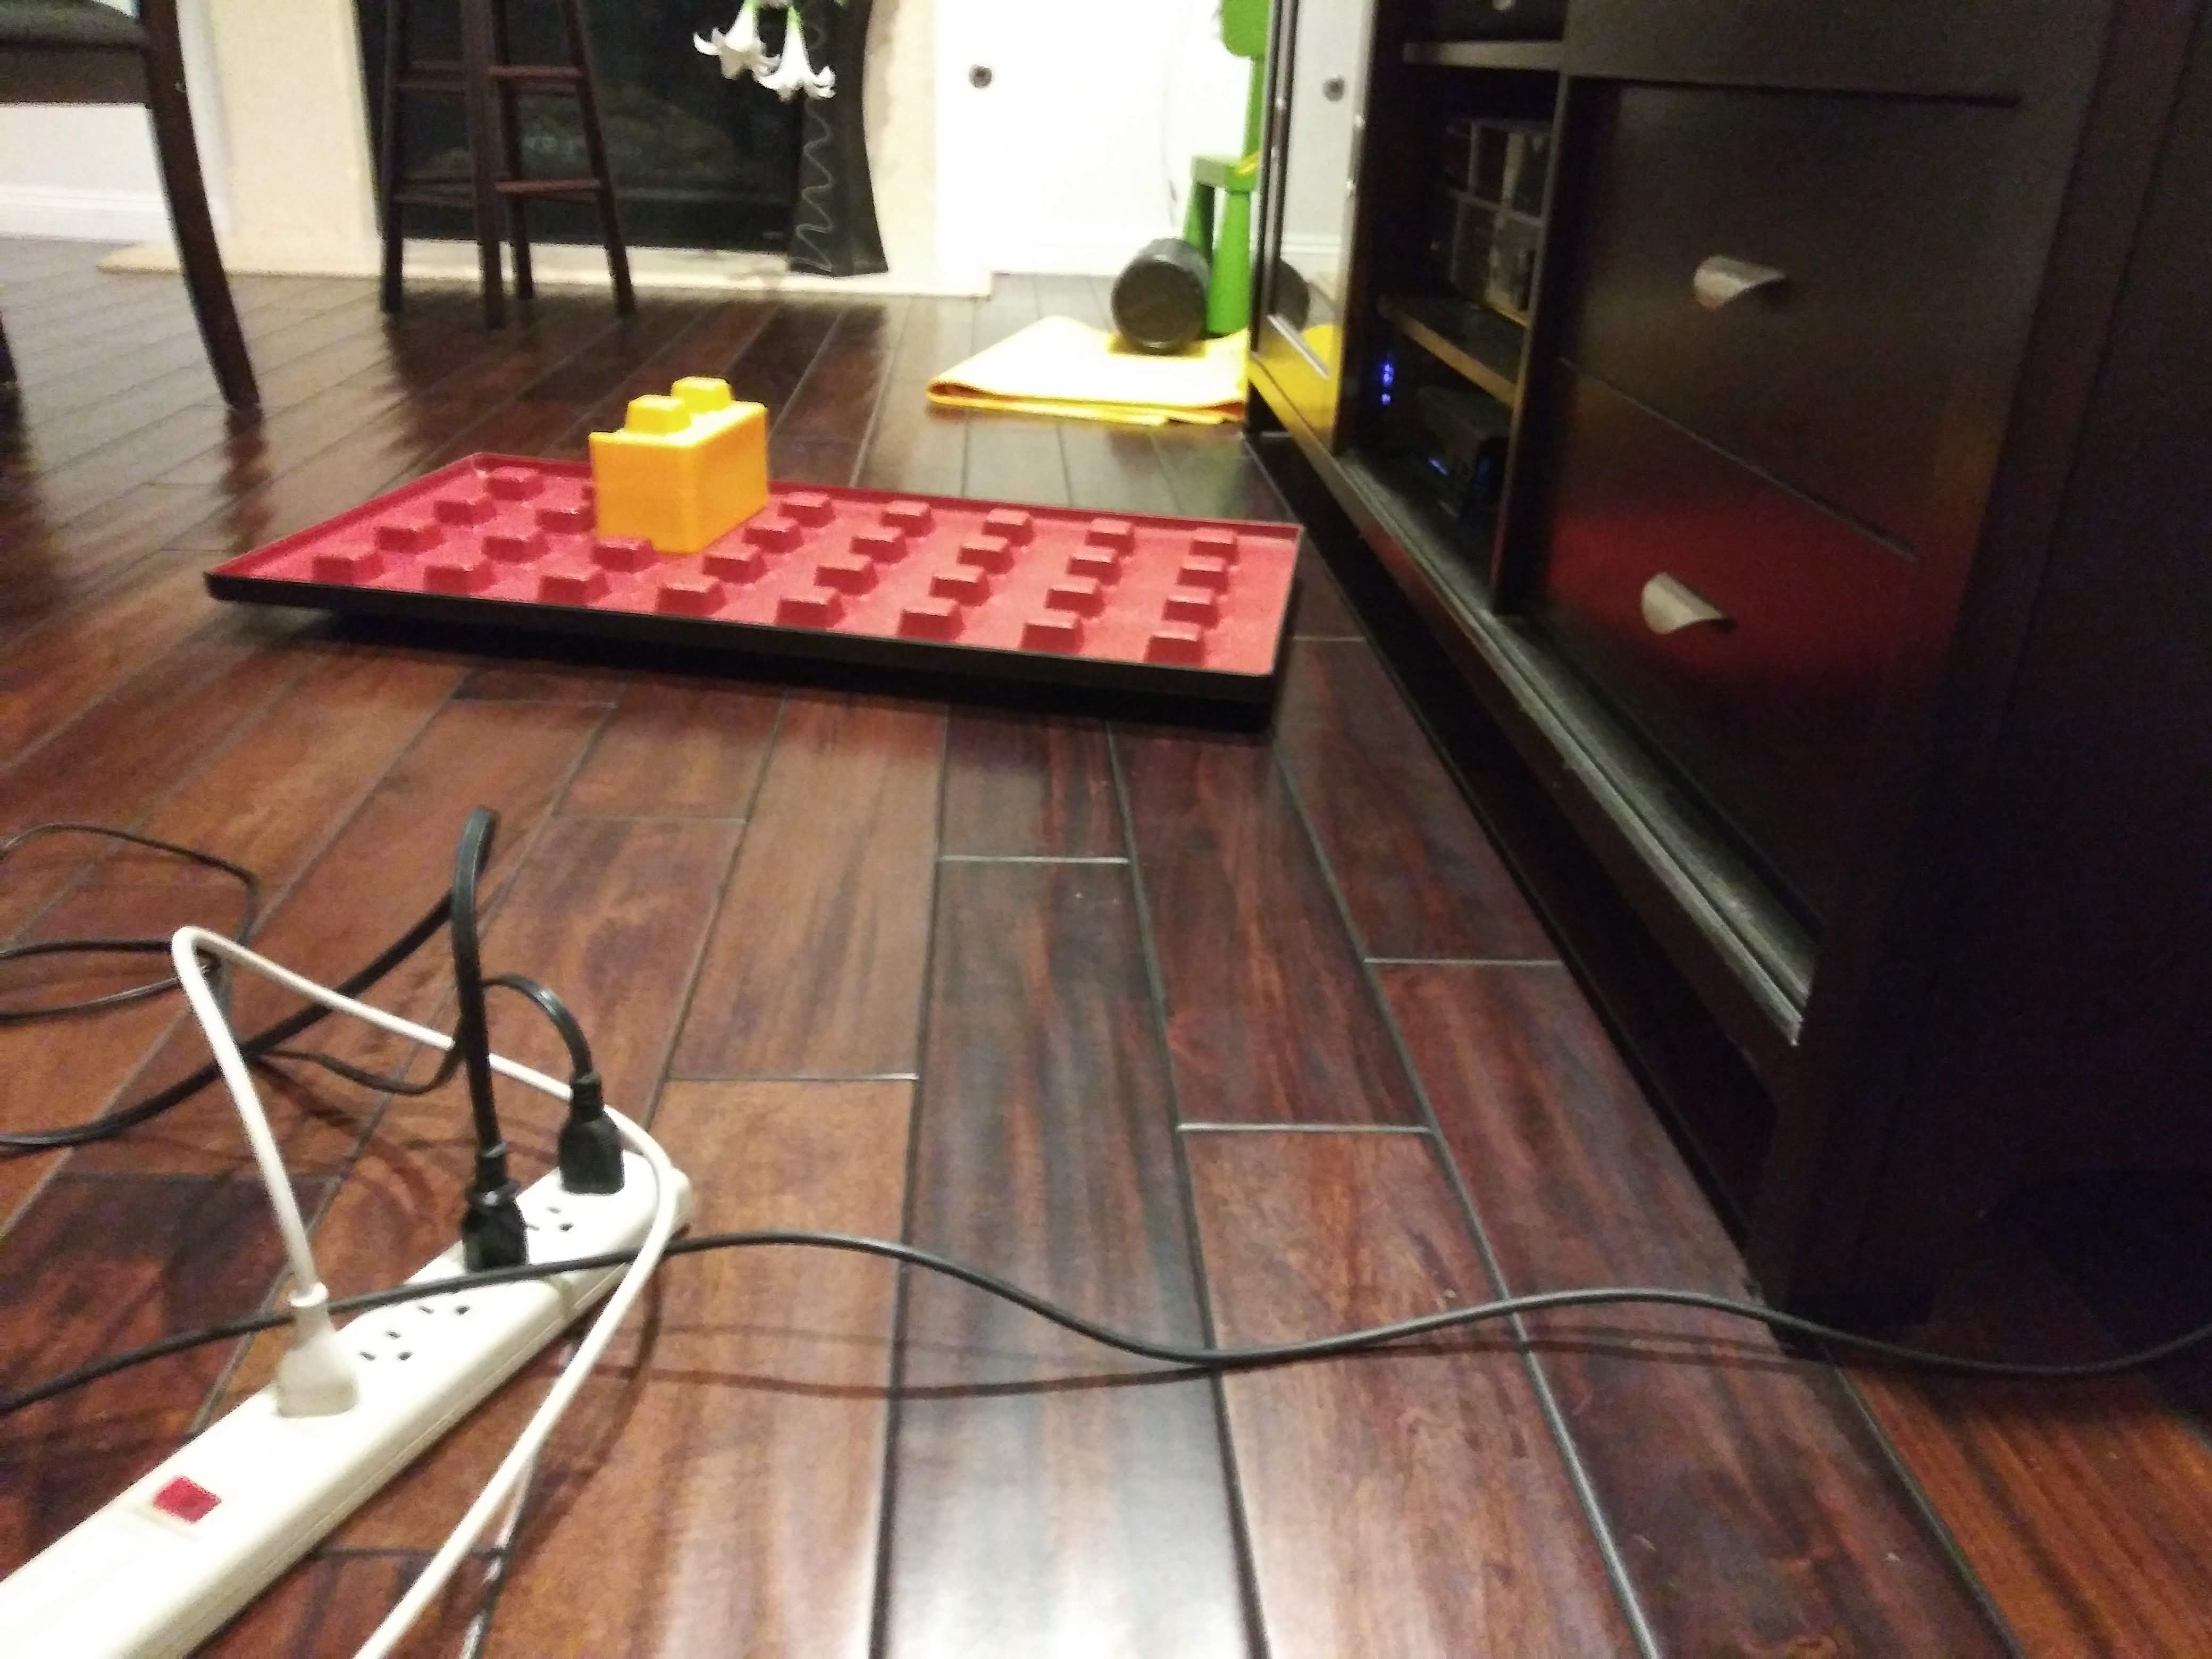red foundation: (193, 408, 1331, 748)
